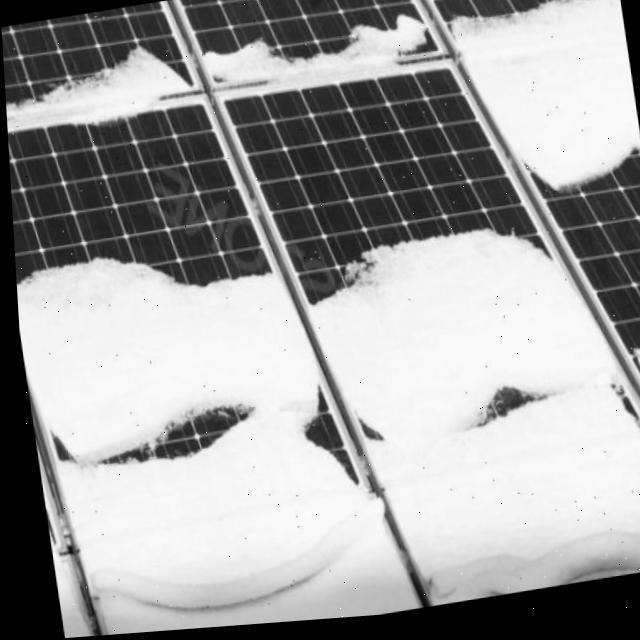Anomaly Solar Panel: (1, 0, 640, 638)
Snow: (12, 215, 410, 636), (287, 214, 640, 613), (448, 0, 640, 214), (4, 35, 193, 156), (204, 13, 432, 108)
